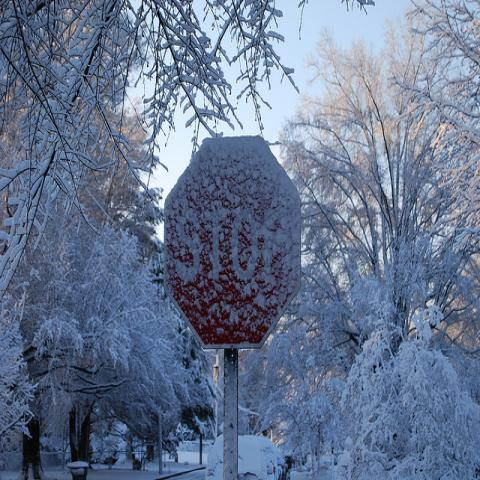car: (204, 434, 291, 479)
